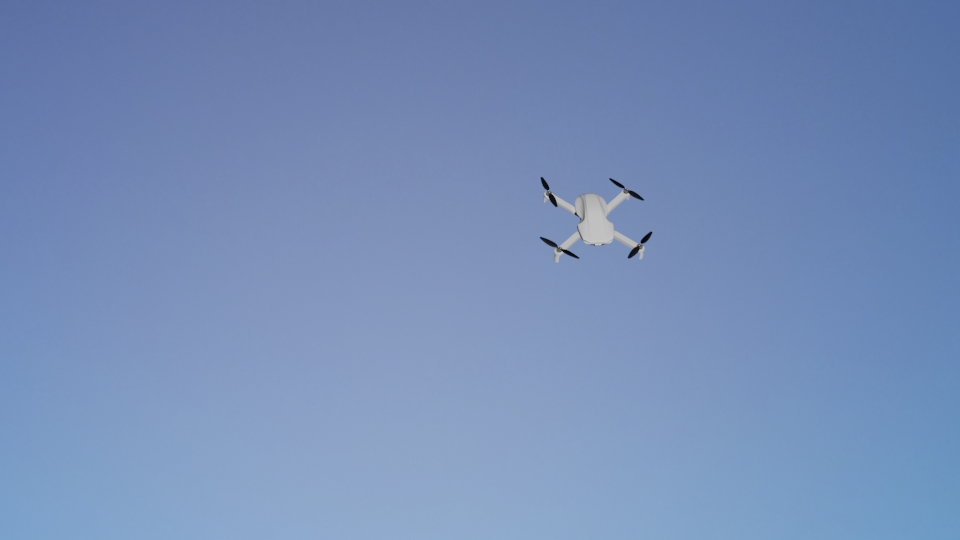drone: (539, 172, 655, 265)
